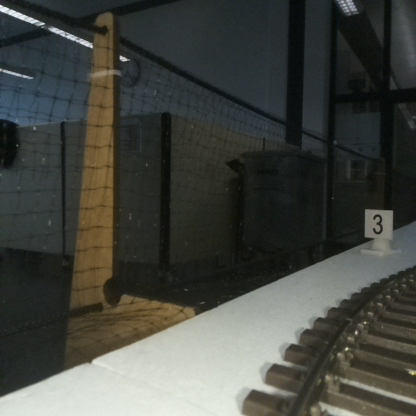white-stop-3: (365, 209, 393, 253)
